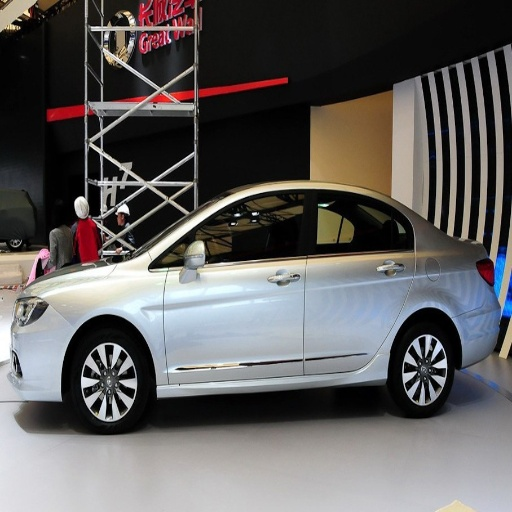back_left_door: (304, 187, 415, 374)
front_left_door: (169, 188, 308, 383)
